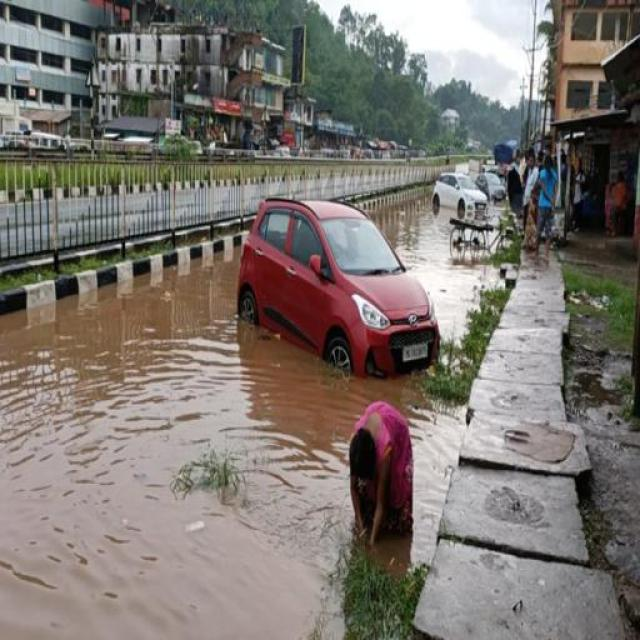puddle: (8, 313, 278, 640), (135, 355, 331, 540), (390, 208, 451, 267)
